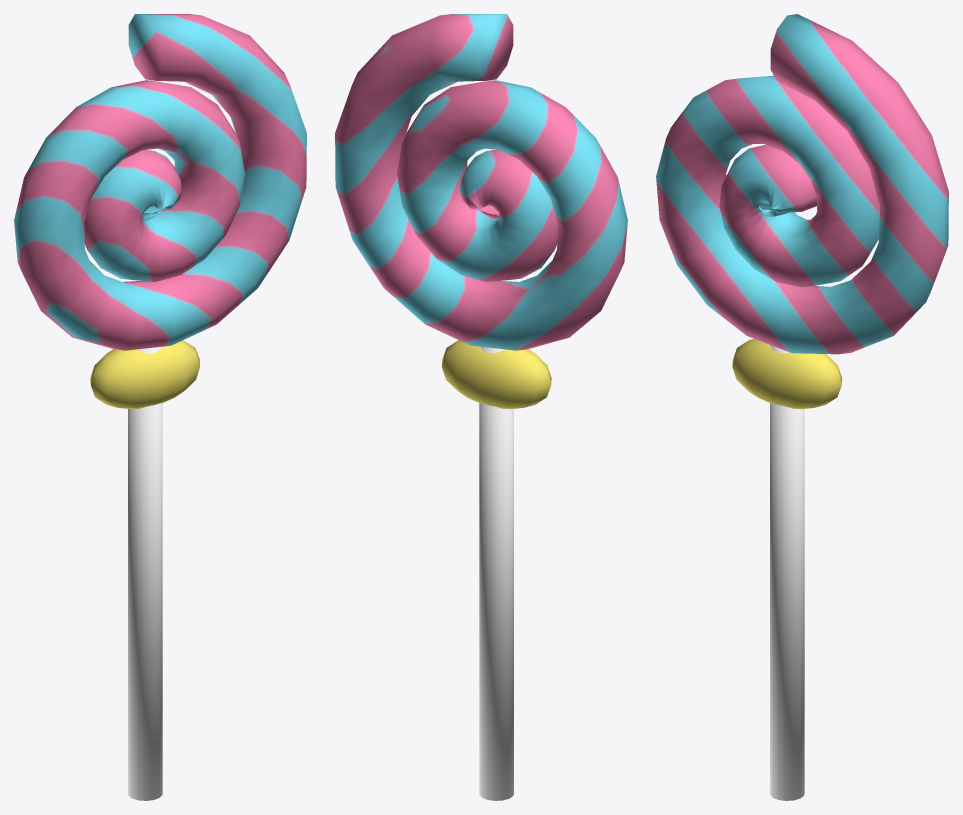
File: permen.fbx
3 views of the same model, side by side, from view 1: azimuth 30°, elevation 25°; view 2: azimuth 150°, elevation 25°; view 3: azimuth 330°, elevation 25° (orthographic).
Parts seen in each view (by area): view 1: permen; view 2: permen; view 3: permen.
Boxes of the visible parts, box(x1,y1,x2,y2) form: permen: box(14, 14, 306, 800); permen: box(335, 14, 627, 800); permen: box(656, 14, 948, 800).
Bounding box in the file's own units: 10.23 × 26.8 × 2.09.
1 material, 1 textured.
